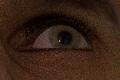eye: (50, 27, 80, 49)
